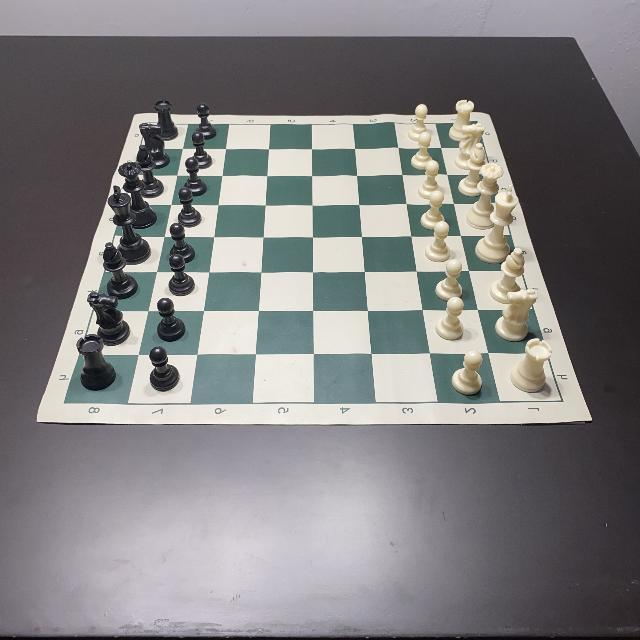black-bishop: (102, 242, 138, 298), (135, 146, 163, 194)
black-king: (107, 186, 151, 264)
black-knight: (86, 292, 132, 346), (139, 122, 169, 166)
black-pawn: (148, 346, 182, 390), (157, 298, 186, 340), (169, 253, 195, 297), (168, 223, 196, 263), (181, 157, 207, 196), (178, 189, 202, 227), (191, 132, 213, 170), (196, 102, 216, 140)
black-queen: (118, 160, 156, 228)
black-rook: (76, 334, 118, 390), (154, 99, 178, 139)
board: (36, 111, 592, 422)
white-bishop: (490, 246, 524, 304), (456, 143, 489, 195)
white-king: (475, 185, 519, 263)
white-knight: (494, 289, 538, 341), (453, 122, 485, 170)
white-pawn: (451, 350, 483, 394), (436, 296, 464, 340), (435, 260, 463, 300), (420, 190, 446, 232), (424, 222, 452, 260), (411, 132, 435, 170), (417, 161, 441, 199), (407, 104, 429, 142)
white-queen: (466, 162, 504, 228)
white-rook: (509, 338, 553, 394), (448, 100, 474, 142)
